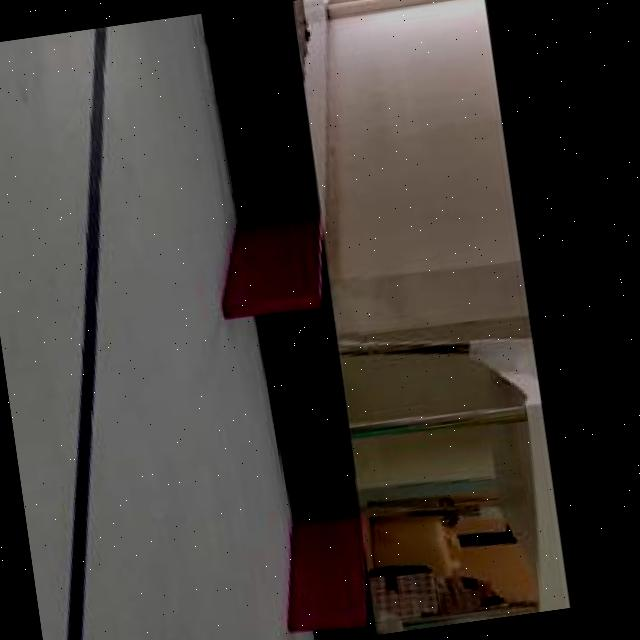xparking: (272, 518, 372, 635), (215, 220, 330, 318)
